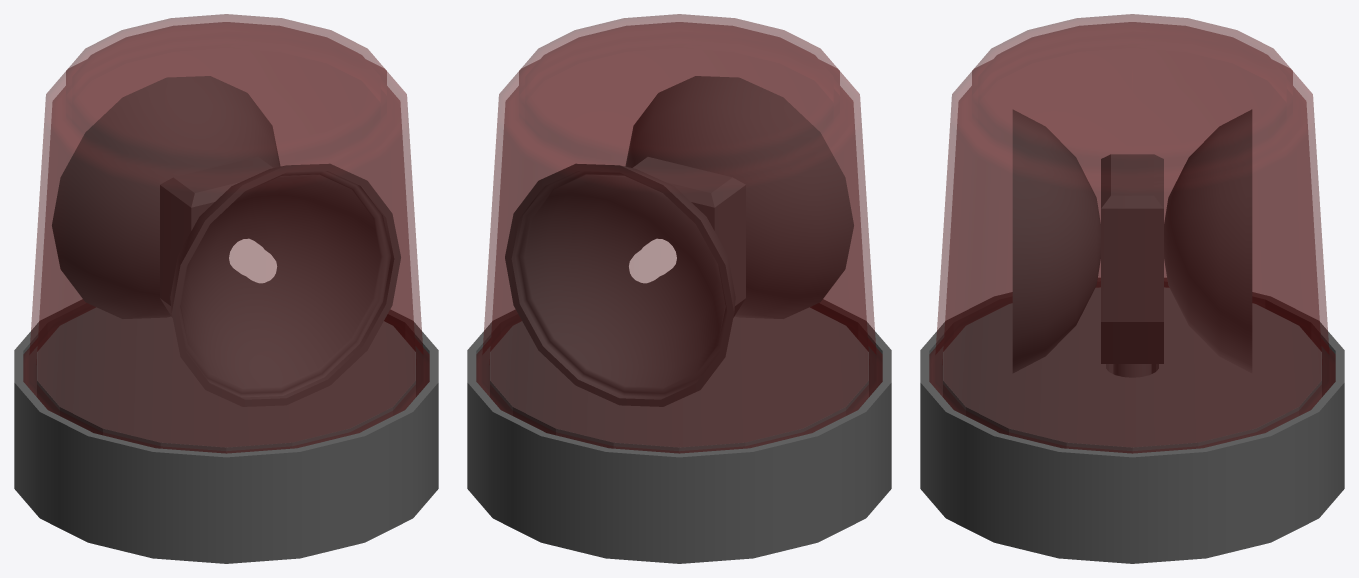
The model's file is alrt.gltf.
The picture shows the model from 3 angles, left to right: view 1: azimuth 30°, elevation 25°; view 2: azimuth 150°, elevation 25°; view 3: azimuth 270°, elevation 25°; orthographic projection.
Parts seen in each view (by area): view 1: Glass, Base, Rot, Bulb; view 2: Glass, Base, Rot, Bulb; view 3: Glass, Base, Rot.
Part boxes in pixels (box(x1,y1,x2,y2)): Glass: box(23, 14, 429, 453); Base: box(14, 299, 438, 563); Rot: box(52, 76, 400, 406); Bulb: box(229, 238, 276, 283); Glass: box(476, 14, 882, 453); Base: box(467, 299, 891, 563); Rot: box(505, 76, 853, 406); Bulb: box(629, 238, 676, 283); Glass: box(929, 14, 1335, 453); Base: box(920, 278, 1344, 563); Rot: box(1012, 109, 1252, 377).
Bounding box in the file's own units: 21.99 × 22.51 × 21.66.
